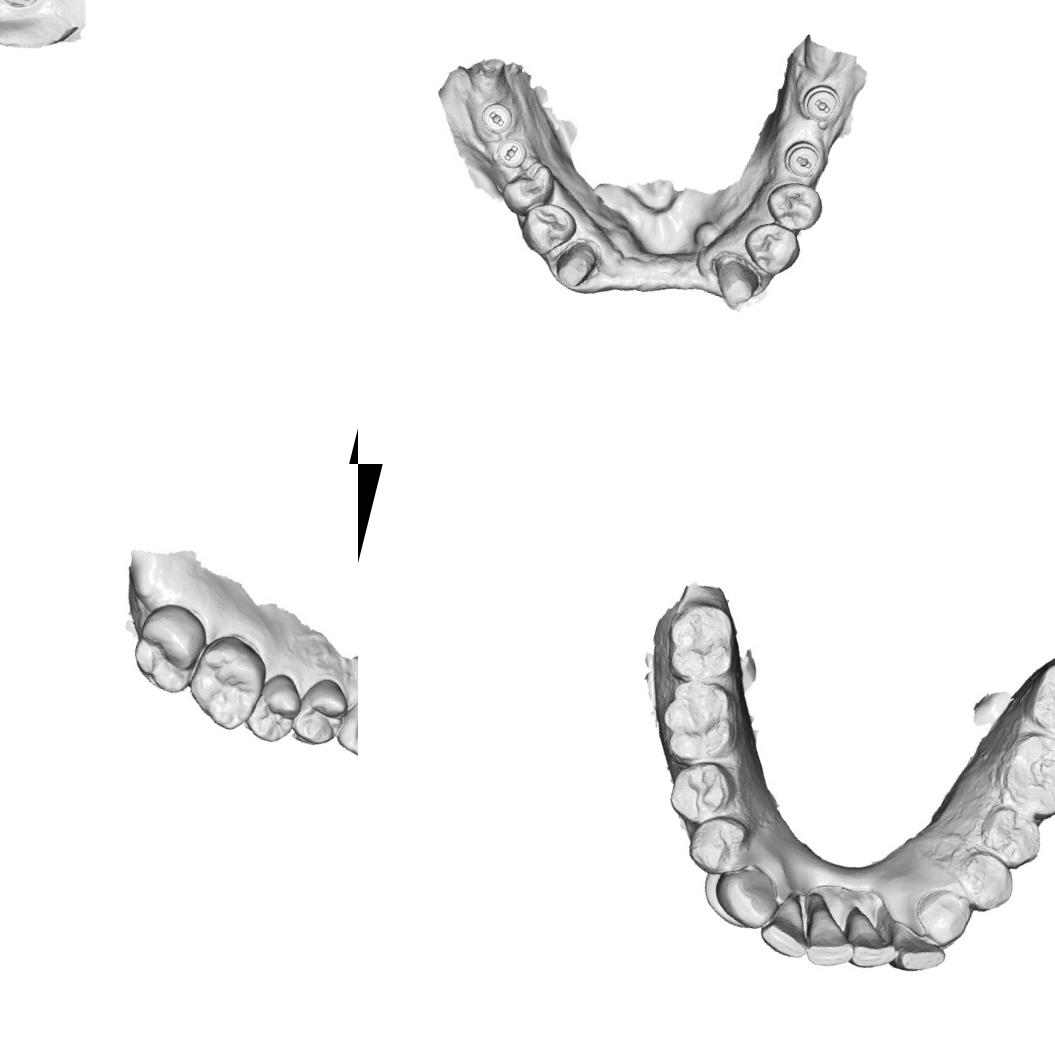canine: (708, 857, 784, 934), (329, 690, 358, 763)
crown: (546, 232, 602, 297), (706, 252, 762, 315)
implant: (0, 0, 43, 11)
implant_minus: (775, 134, 827, 184), (795, 78, 846, 128), (476, 97, 516, 138), (490, 132, 530, 171)
incisor: (755, 885, 821, 962), (800, 900, 862, 975), (887, 915, 953, 980), (844, 906, 902, 976)
molar: (179, 626, 275, 736), (124, 594, 213, 698), (655, 672, 749, 766), (660, 597, 742, 684), (997, 720, 1055, 819), (1021, 657, 1055, 744)
premolar: (241, 664, 308, 750), (286, 670, 353, 754), (974, 797, 1048, 867), (665, 755, 730, 828), (757, 174, 829, 238), (736, 215, 805, 281), (514, 196, 582, 262), (950, 846, 1016, 914), (497, 152, 561, 222), (685, 809, 749, 876)
